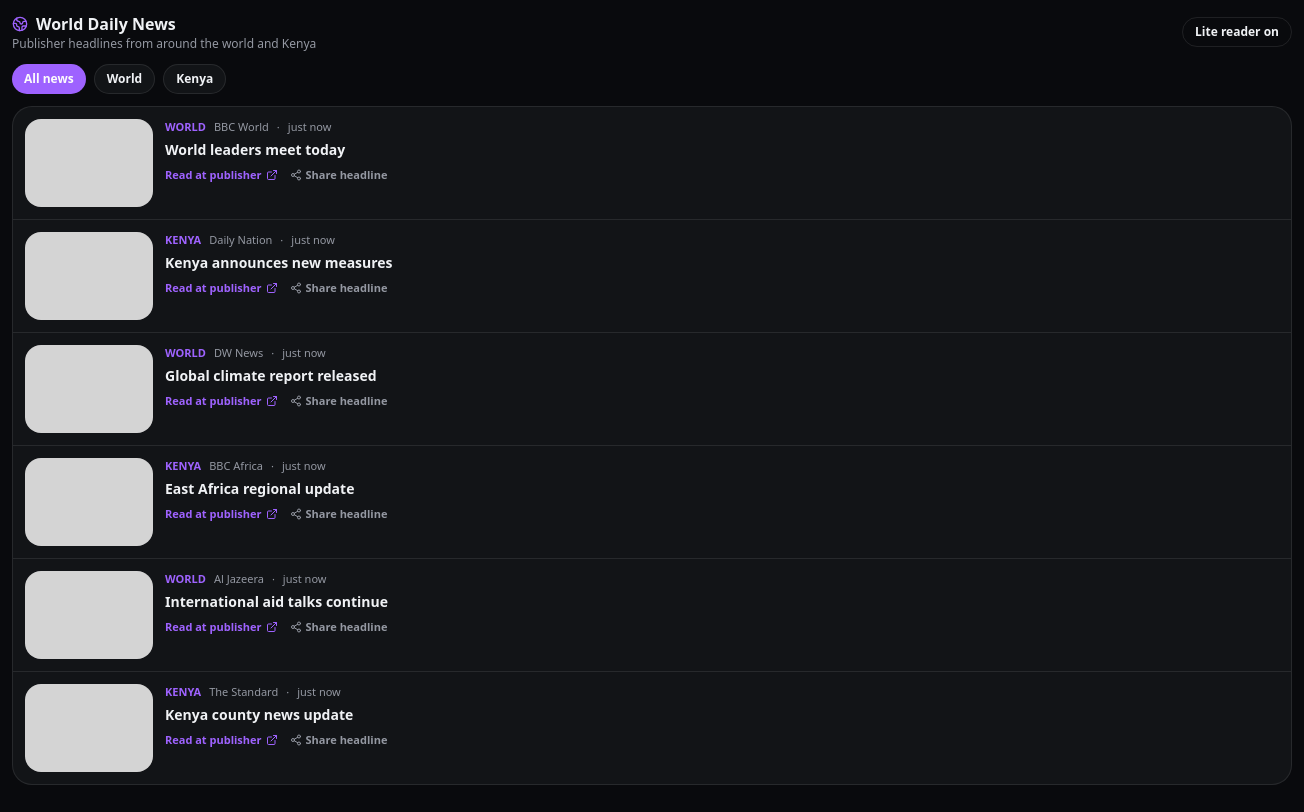
WorldNewsPanel › offers a lightweight reader toggle
Expected: the link "World leaders meet today" is shown, [165,140,345,158]
Click the button "Lite reader on".
click(1237, 32)  # box [1182,17,1292,47]
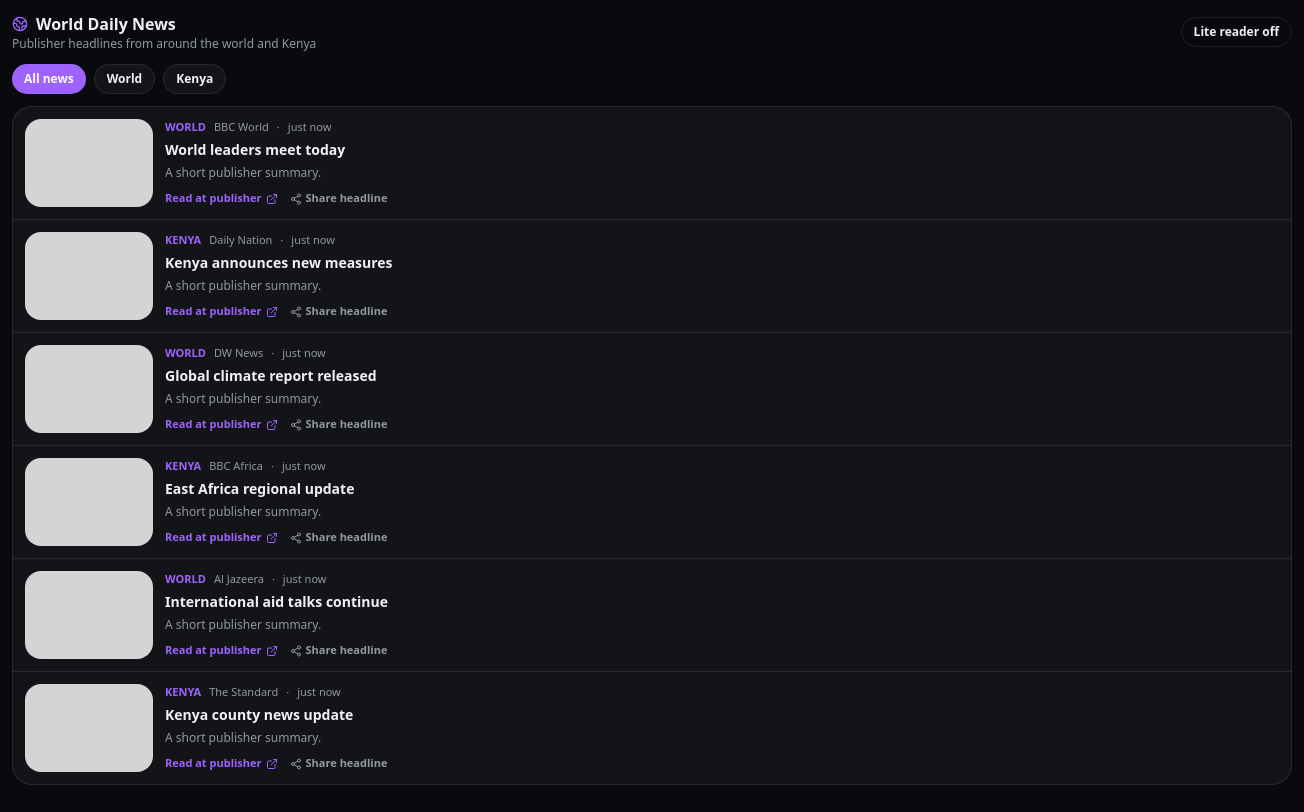
Expected: the button "Lite reader off" is shown, [1181,17,1292,47]
